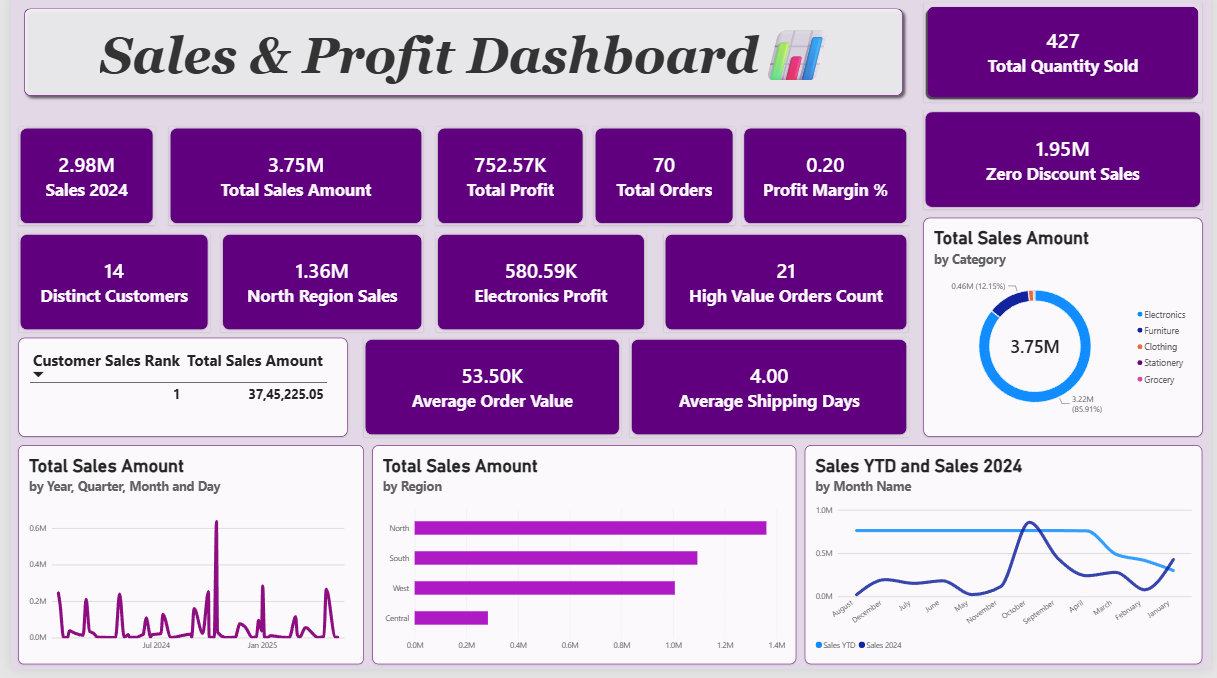

The dashboard page shown, as its layout file describes it:
{"tool":"powerbi","page":{"name":"Dashboard📊","canvas":[1920,1080],"ordinal":0},"visuals":[{"type":"lineChart","fields":{"Category":["Calendar.Date.Variation.Date Hierarchy.Year","Calendar.Date.Variation.Date Hierarchy.Quarter","Calendar.Date.Variation.Date Hierarchy.Month","Calendar.Date.Variation.Date Hierarchy.Day"],"Y":["Sales.Total Sales Amount"]},"box":[12,722,552,350],"z":0},{"type":"donutChart","fields":{"Category":["Products.Category"],"Y":["Sales.Total Sales Amount"]},"box":[1460,358,446,350],"z":1},{"type":"clusteredBarChart","fields":{"Category":["Customers.Region"],"Y":["Sales.Total Sales Amount"]},"box":[578,722,678,350],"z":2},{"type":"lineChart","fields":{"Category":["Calendar.Month Name"],"Y":["Sales.Sales YTD","Sales.Sales 2024"]},"box":[1270,722,636,350],"z":3},{"type":"tableEx","fields":{"Values":["Sales.Customer Sales Rank","Sales.Total Sales Amount"]},"box":[12,550,526,158],"z":4},{"type":"cardVisual","fields":{"Data":["Sales.Average Order Value"]},"box":[564,550,412,158],"z":5},{"type":"cardVisual","fields":{"Data":["Sales.High Value Orders Count"]},"box":[1044,382,392,158],"z":6},{"type":"cardVisual","fields":{"Data":["Sales.Average Shipping Days"]},"box":[990,550,446,158],"z":7},{"type":"cardVisual","fields":{"Data":["Sales.North Region Sales"]},"box":[336,382,324,158],"z":8},{"type":"cardVisual","fields":{"Data":["Sales.Distinct Customers"]},"box":[12,382,306,158],"z":9},{"type":"cardVisual","fields":{"Data":["Sales.Profit Margin %"]},"box":[1170,212,266,158],"z":10},{"type":"cardVisual","fields":{"Data":["Sales.Electronics Profit"]},"box":[680,382,336,158],"z":11},{"type":"cardVisual","fields":{"Data":["Sales.Sales 2024"]},"box":[12,212,218,158],"z":12},{"type":"cardVisual","fields":{"Data":["Sales.Total Quantity Sold"]},"box":[1460,14,446,158],"z":13},{"type":"cardVisual","fields":{"Data":["Sales.Total Sales Amount"]},"box":[252,212,408,158],"z":14},{"type":"cardVisual","fields":{"Data":["Sales.Zero Discount Sales"]},"box":[1460,186,446,158],"z":15},{"type":"cardVisual","fields":{"Data":["Sales.Total Orders"]},"box":[932,212,226,158],"z":17},{"type":"cardVisual","fields":{"Data":["Sales.Total Profit"]},"box":[680,212,238,158],"z":18},{"type":"shape","box":[12,14,1424,158],"z":19}]}

Visuals, with their boxes in screenshot pixels (x1, y1, x2, y2), scaled from the page's 1920x1080 canvas onto the 1217x678 screenshot:
lineChart - Calendar.Date.Variation.Date Hierarchy.Year x Calendar.Date.Variation.Date Hierarchy.Quarter: region(8, 453, 357, 673)
donutChart - Products.Category x Sales.Total Sales Amount: region(925, 225, 1208, 444)
clusteredBarChart - Customers.Region x Sales.Total Sales Amount: region(366, 453, 796, 673)
lineChart - Calendar.Month Name x Sales.Sales YTD: region(805, 453, 1208, 673)
tableEx - Sales.Customer Sales Rank x Sales.Total Sales Amount: region(8, 345, 341, 444)
cardVisual - Sales.Average Order Value: region(357, 345, 619, 444)
cardVisual - Sales.High Value Orders Count: region(662, 240, 910, 339)
cardVisual - Sales.Average Shipping Days: region(628, 345, 910, 444)
cardVisual - Sales.North Region Sales: region(213, 240, 418, 339)
cardVisual - Sales.Distinct Customers: region(8, 240, 202, 339)
cardVisual - Sales.Profit Margin %: region(742, 133, 910, 232)
cardVisual - Sales.Electronics Profit: region(431, 240, 644, 339)
cardVisual - Sales.Sales 2024: region(8, 133, 146, 232)
cardVisual - Sales.Total Quantity Sold: region(925, 9, 1208, 108)
cardVisual - Sales.Total Sales Amount: region(160, 133, 418, 232)
cardVisual - Sales.Zero Discount Sales: region(925, 117, 1208, 216)
cardVisual - Sales.Total Orders: region(591, 133, 734, 232)
cardVisual - Sales.Total Profit: region(431, 133, 582, 232)
shape: region(8, 9, 910, 108)
